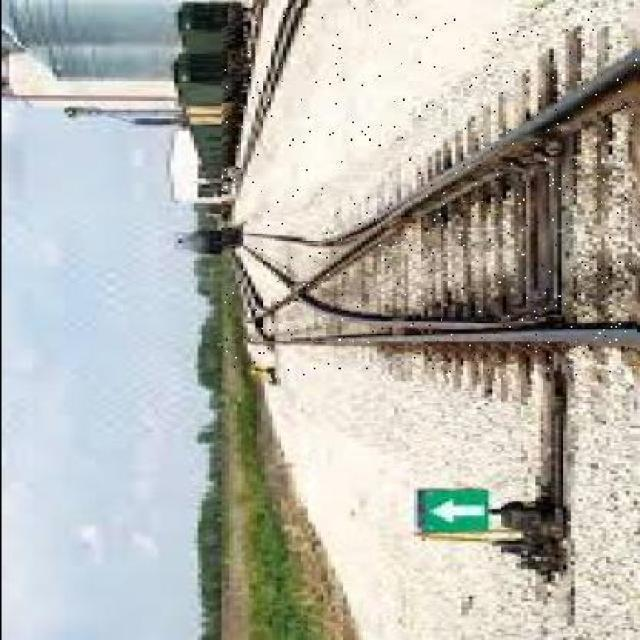rail: (222, 10, 636, 378)
